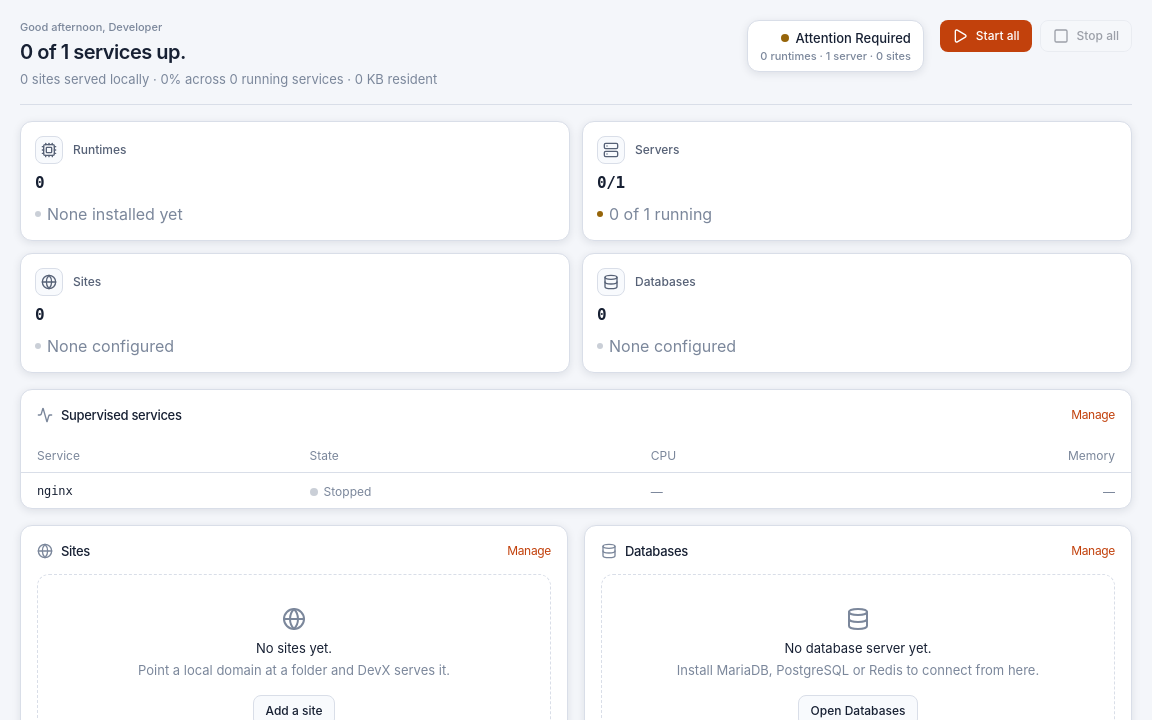
Scenario: DashboardPage › reports a batch start that only partly worked (§54)
What coordinates should you click on to do the following:
click the button "Start all"
I would click on:
 (986, 36)
Its box is [940,20,1032,52].
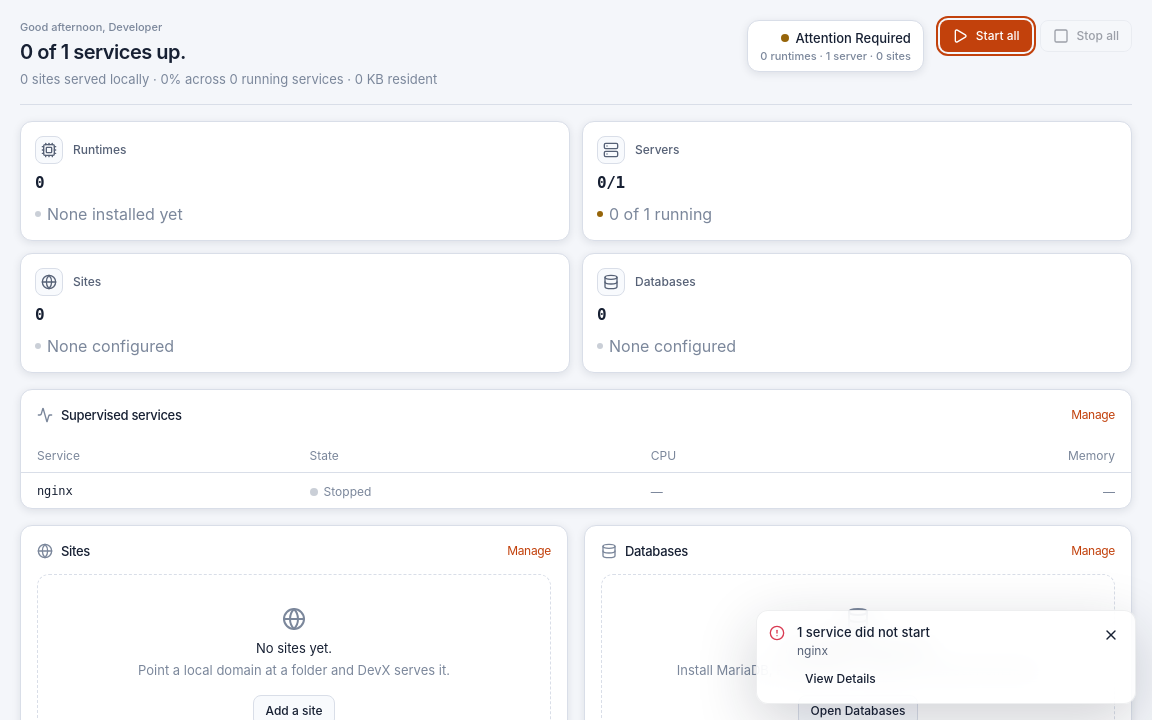
Expected: the text "1 service did not start" is shown, [797,624,930,640]
What coordinates should you click on to do the following:
click the button "View Details"
I would click on:
 (840, 679)
Its box is [797,667,884,691].
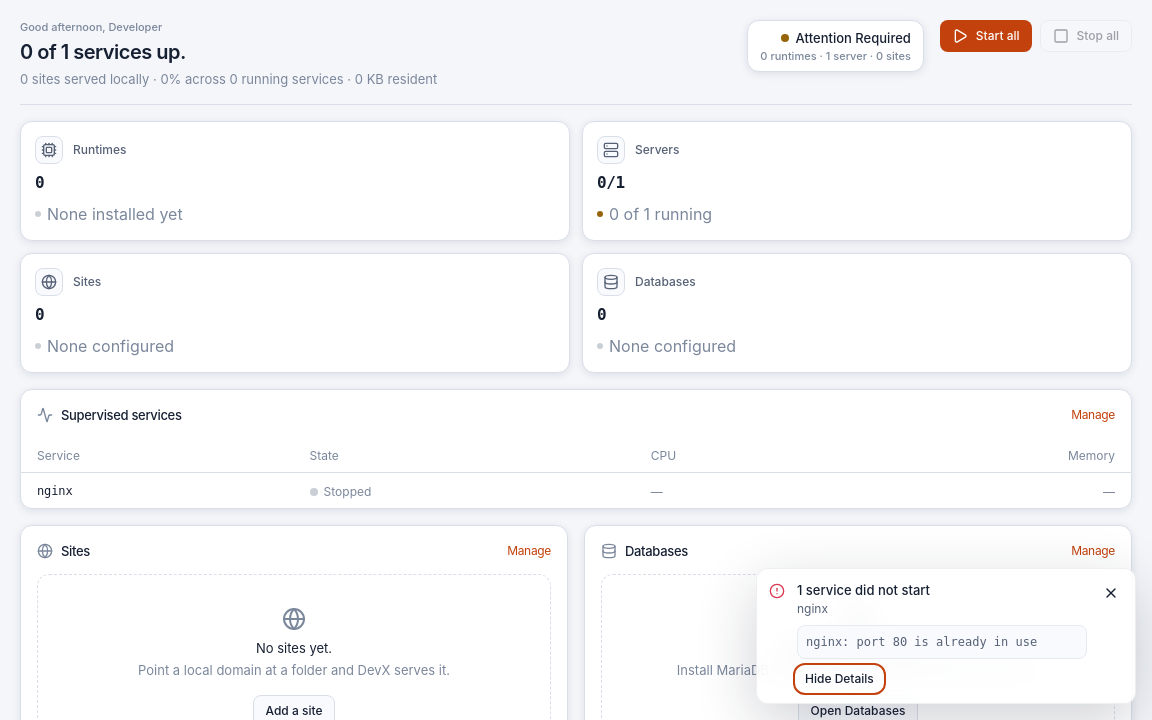
Expected: the text "nginx: port 80 is already in use" is shown, [797,625,1087,659]
